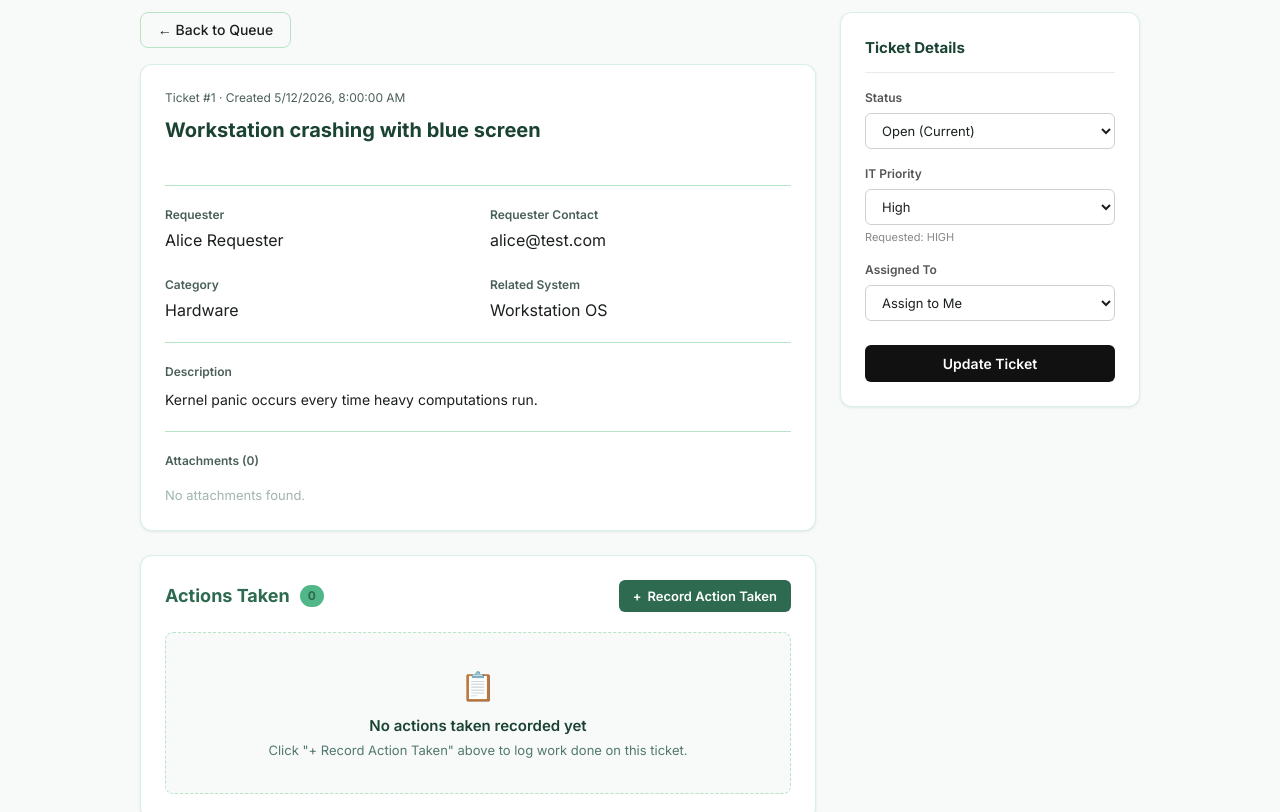
Test case: Ticket Workflow & Resolution Gate (Lab 04 - Issue 4) › UI-06 & AC-08: Concurrency Conflict (HTTP 409) Handling › renders warning banner with refresh button when status update fails with 409 conflict
Expected: the heading "Workstation crashing with blue screen" is shown, [165,115,541,145]
Note: Change status to IN_PROGRESS
Select "In Progress" in the dropdown with test id "ticket-status-select". click: (990, 130)
box: [865,112,1115,148]
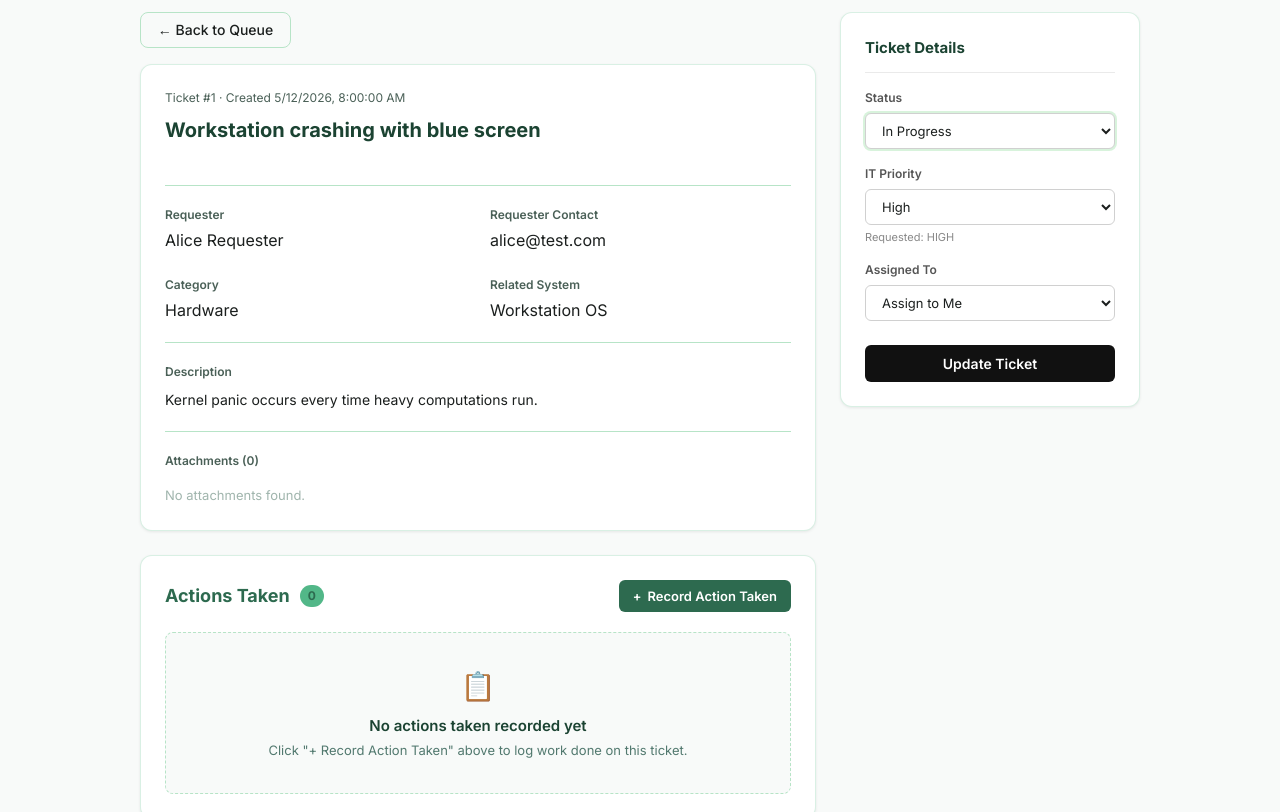
Note: Click Update Ticket
Click the button "Update Ticket". click: (990, 364)
box: [865,345,1115,382]
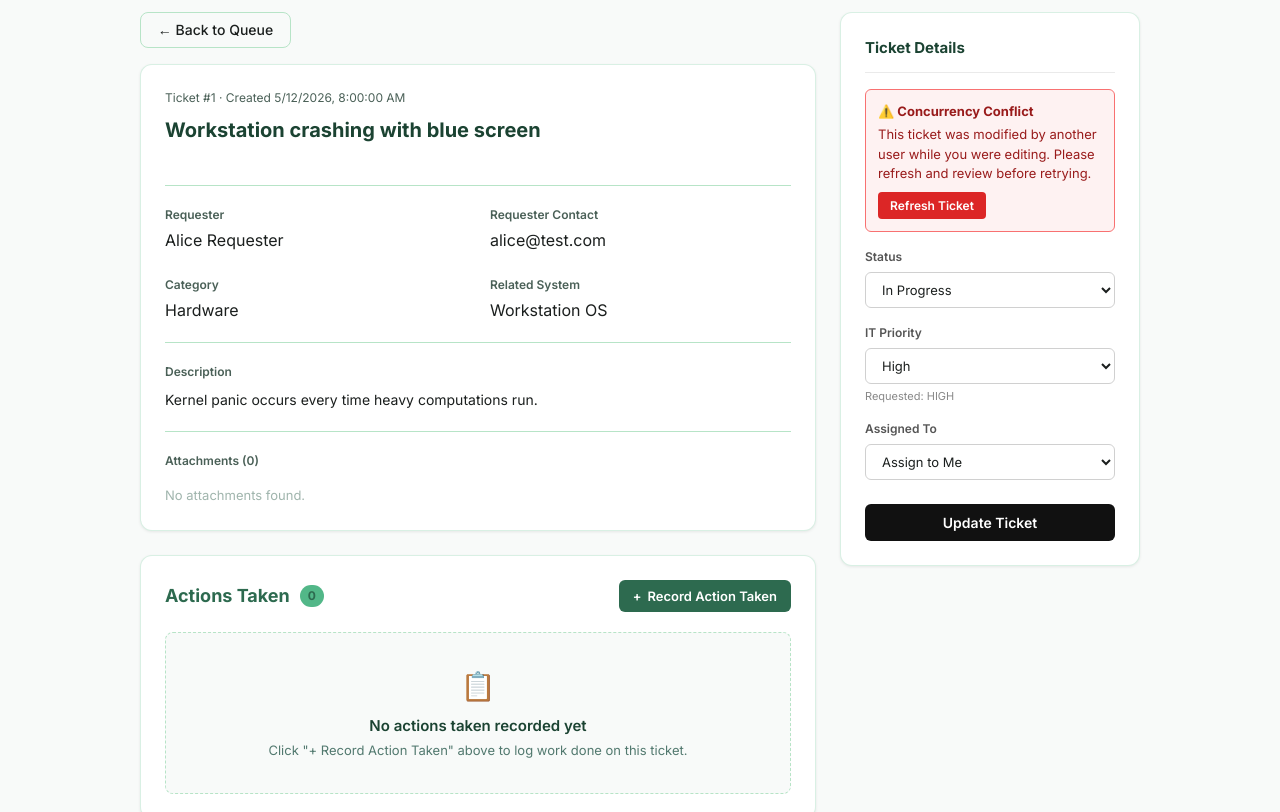
Expected: the message with test id "concurrency-conflict-banner" is shown, [865,88,1115,232]
Expected: the text "⚠️ Concurrency Conflict" is shown, [878,102,1034,118]
Expected: the text "modified by another user" is shown, [878,126,1097,181]
Click the button with test id "refresh-ticket-button". click: (932, 205)
box: [878,192,986,218]
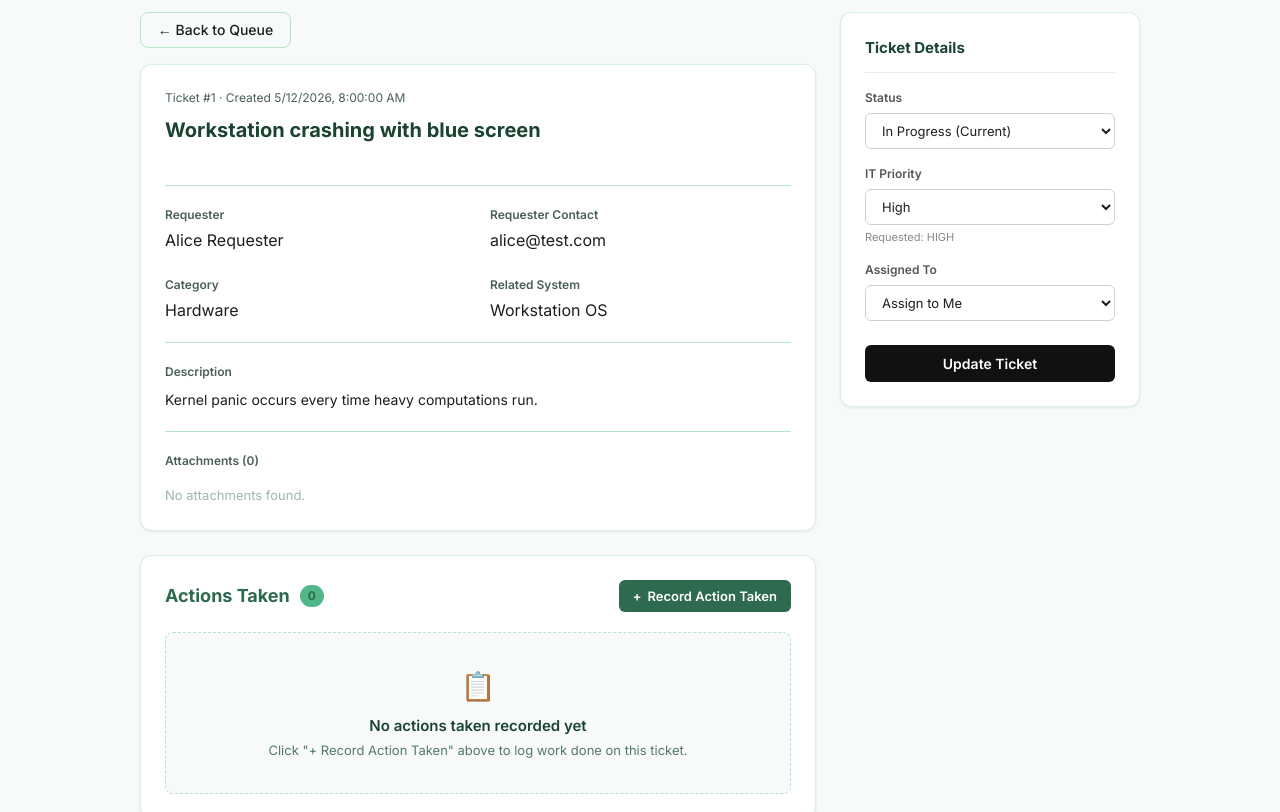
Expected: the message with test id "concurrency-conflict-banner" is gone
